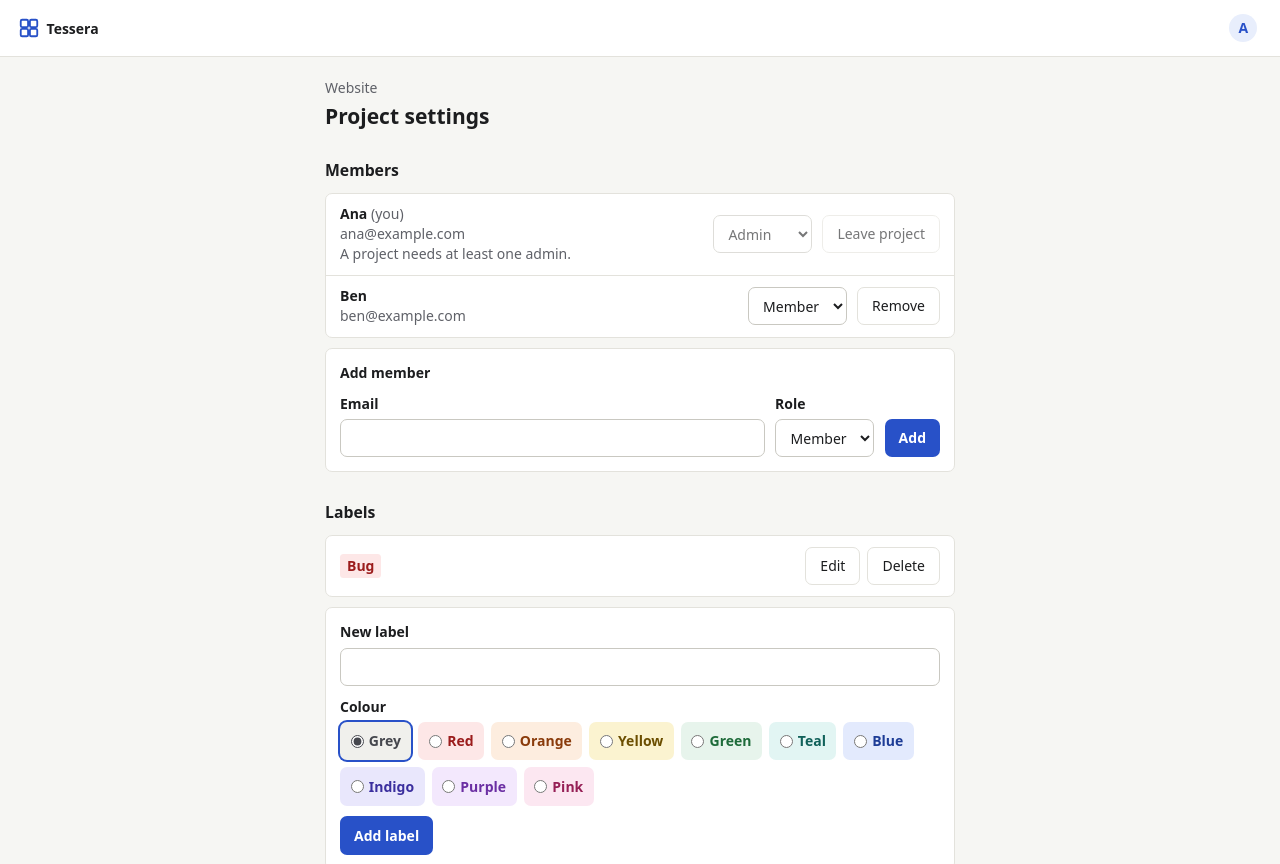
Test: Project settings: members › explains when nobody has an account with that email
Type "zoe@example.com" into the field labelled "Email" at (552,438), box [340,419,765,457]
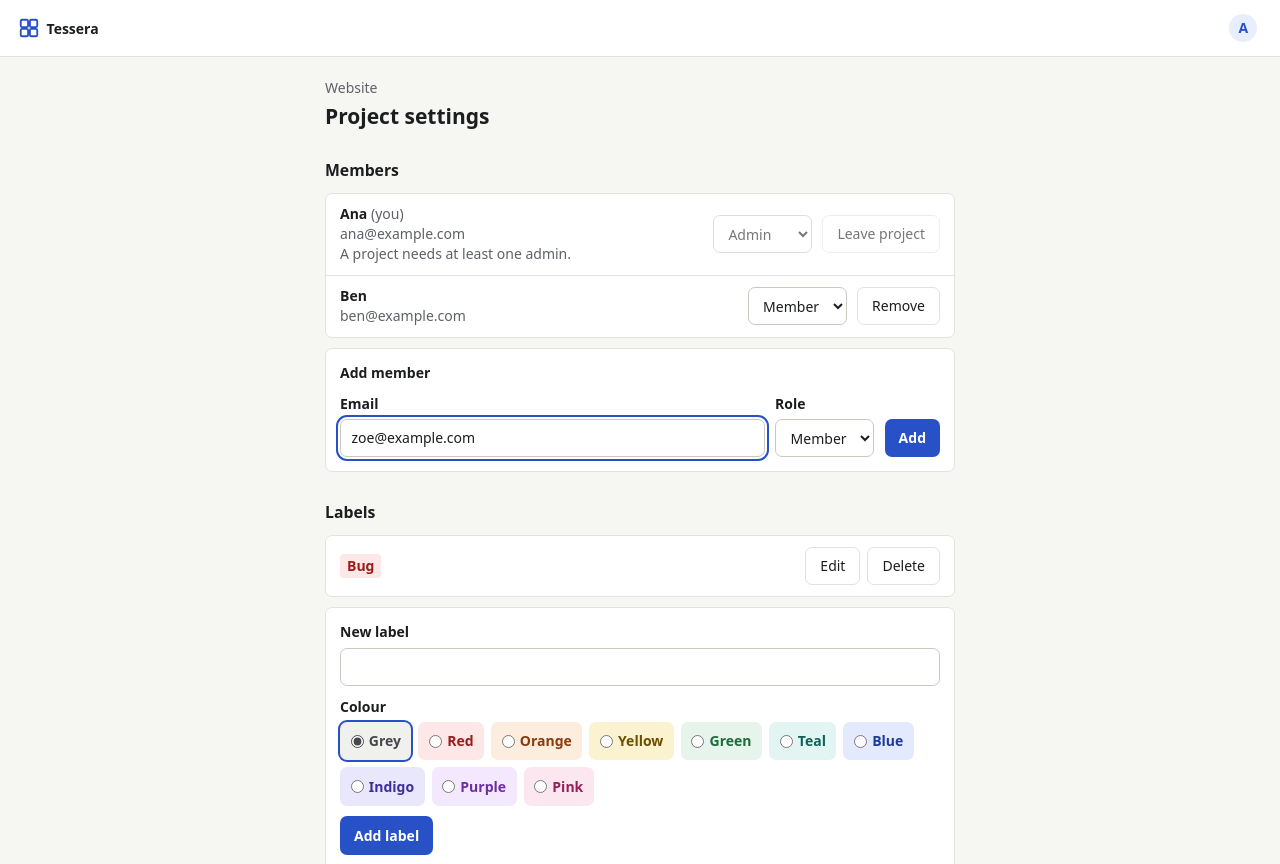
Click the button "Add" at (912,438), box [885,419,940,457]
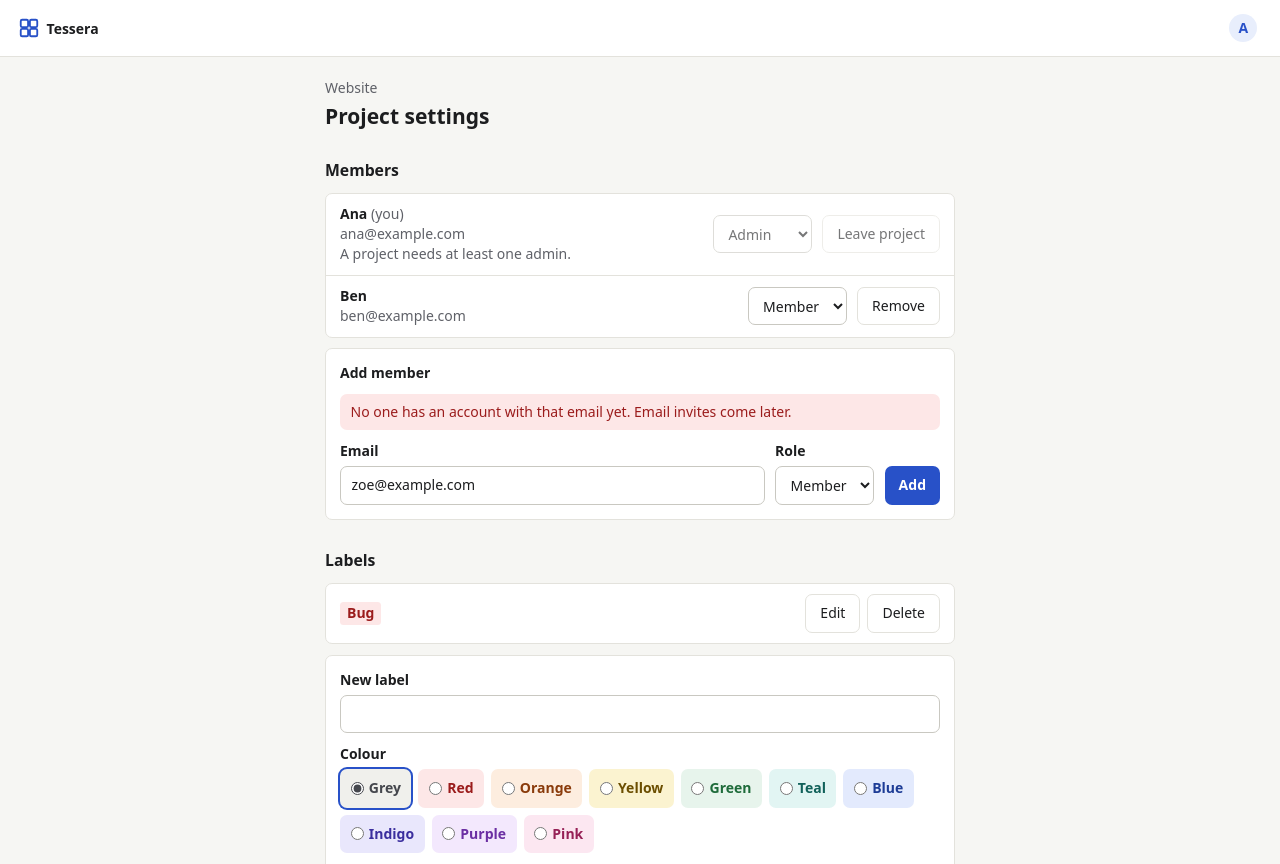
Check: the message reads "No one has an account with that email yet. Email invites come later.", box [350,402,792,421]
